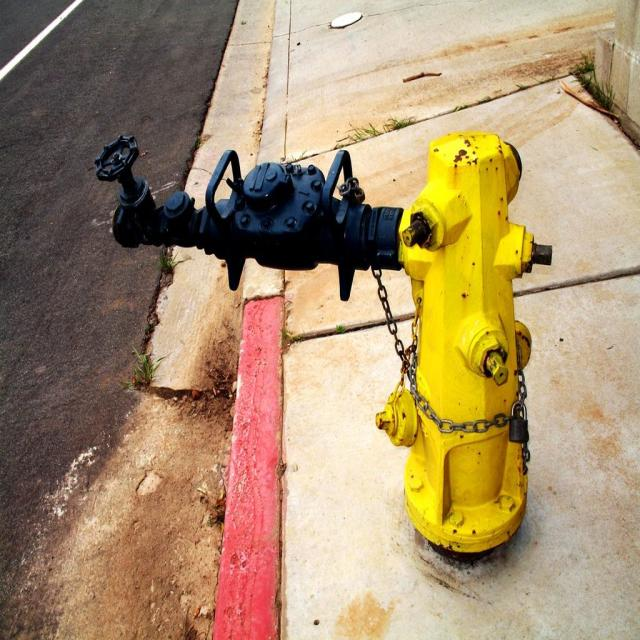fire_hydrant: (94, 135, 555, 565)
